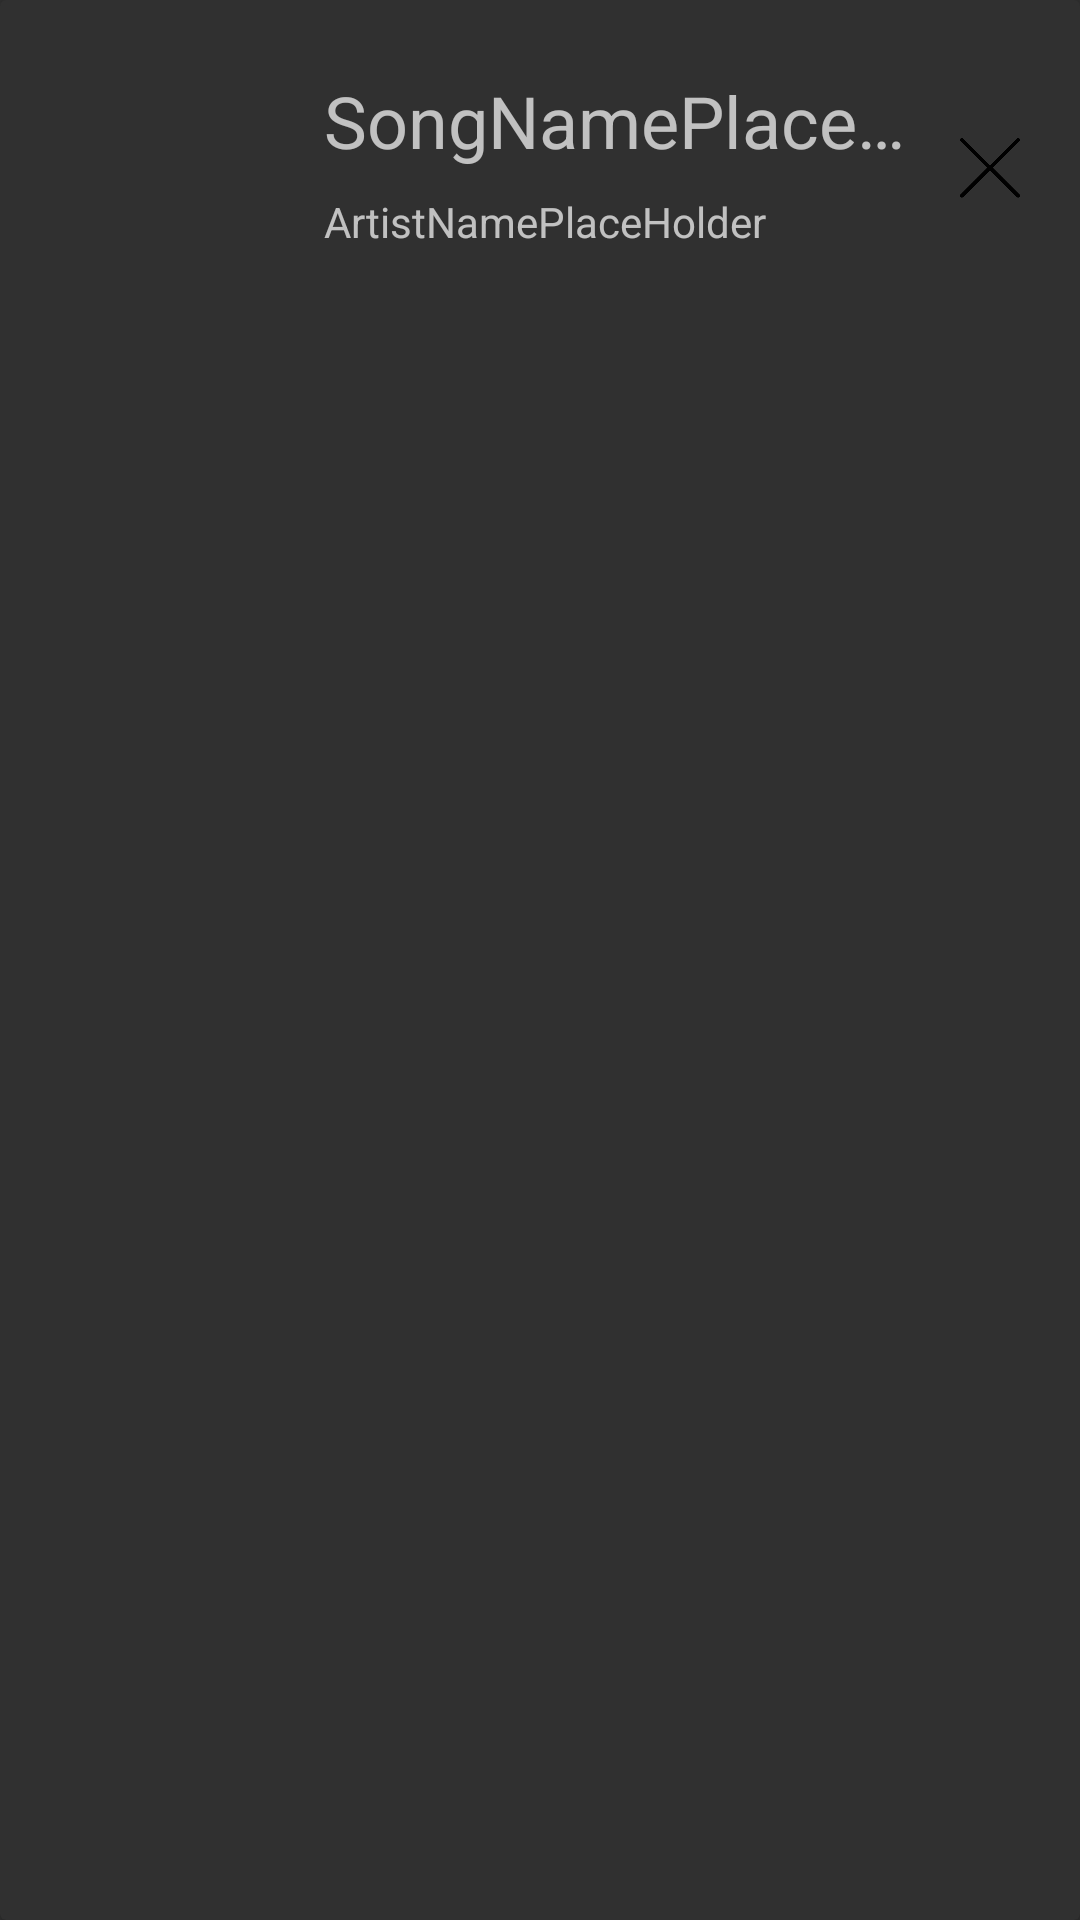

Named icons in this screenshot (1080×1920) and their centers, [x,y]:
clear: [990,168]
